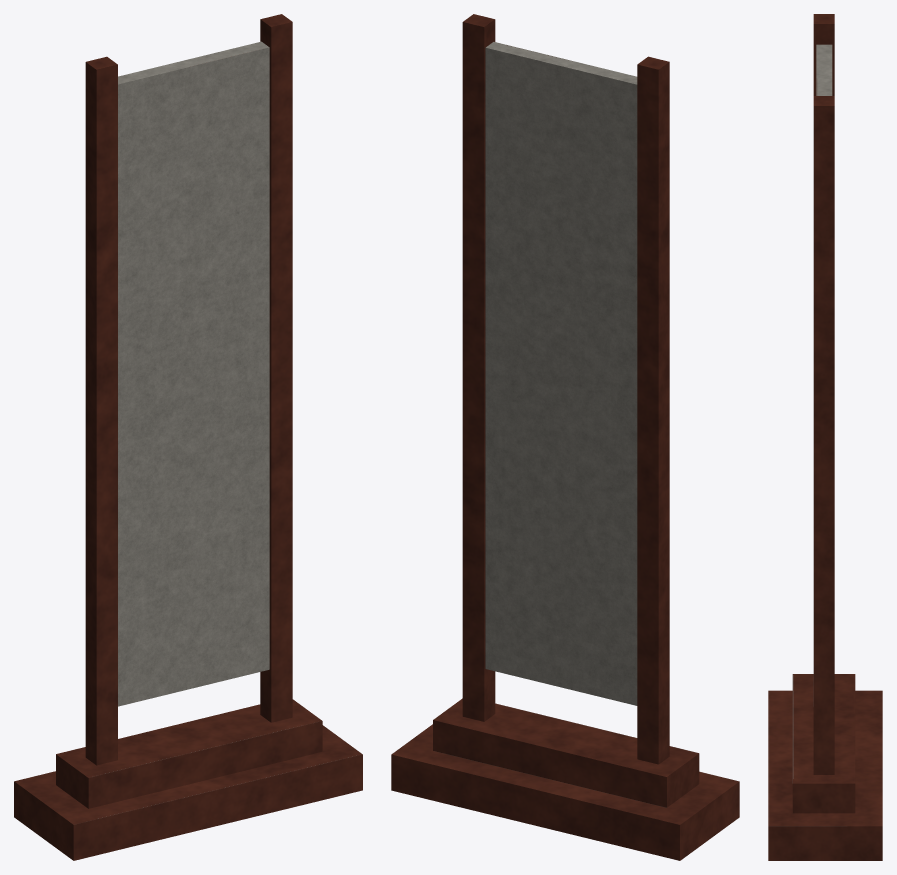
Rendered from banner_V5_TEMP.001.glb.
3 renders of one model, left to right at view 1: azimuth 30°, elevation 25°; view 2: azimuth 150°, elevation 25°; view 3: azimuth 270°, elevation 25°, orthographic. The views are drawn at different scales.
Visible parts, largest first — view 1: banner_V5_TEMP.001_V51_TEMP; view 2: banner_V5_TEMP.001_V51_TEMP; view 3: banner_V5_TEMP.001_V51_TEMP.
Boxes of the visible parts, bbox=[...] form: banner_V5_TEMP.001_V51_TEMP: bbox=[14, 14, 362, 860]; banner_V5_TEMP.001_V51_TEMP: bbox=[391, 14, 739, 860]; banner_V5_TEMP.001_V51_TEMP: bbox=[768, 14, 882, 860].
Bounding box in the file's own units: 4.89 × 12.32 × 1.74.
1 material, 1 textured.
